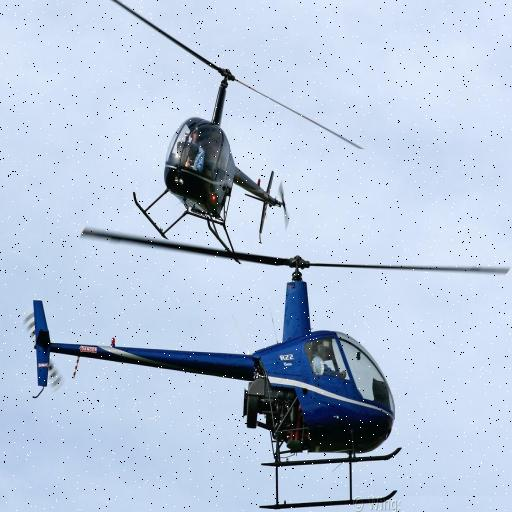helicopter: (28, 225, 512, 511), (83, 2, 366, 267)
